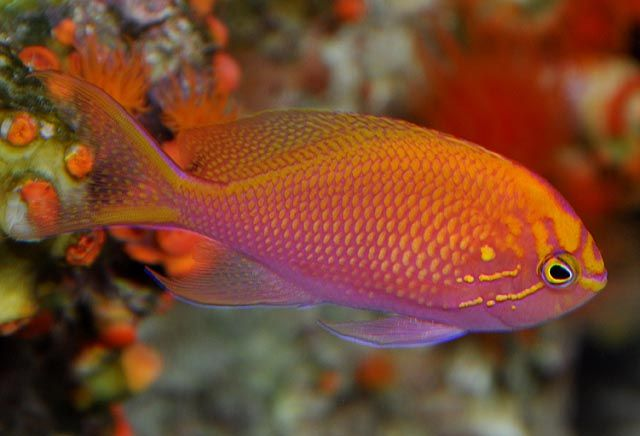fish: (27, 69, 609, 350)
